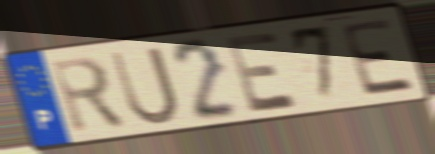2: (172, 35, 246, 127)
7: (286, 22, 337, 105)
E: (222, 28, 302, 116), (338, 15, 420, 99)
R: (47, 53, 131, 137)
U: (106, 43, 182, 129)
